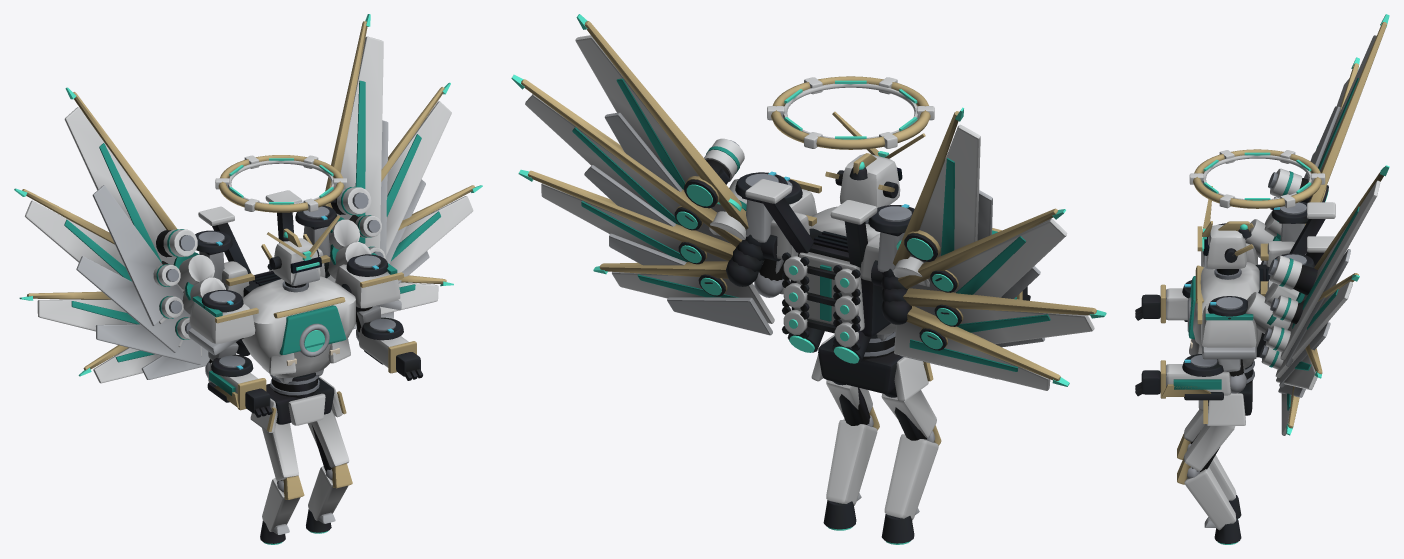
The model's file is ex_seraph_10.glb.
3 views of the same model, side by side, from view 1: azimuth 30°, elevation 25°; view 2: azimuth 150°, elevation 25°; view 3: azimuth 270°, elevation 25° (orthographic). The views are drawn at different scales.
Visible parts, largest first — view 1: body, flap_4, flap_0, flap_5, flap_1, flap_6, flap_2, fan_0, flap_7, flap_3; view 2: body, flap_0, flap_1, flap_4, flap_5, flap_2, flap_3, flap_6, flap_7, fan_0; view 3: body, flap_0, flap_4, fan_0, flap_1, flap_2, flap_3, flap_5.
Part boxes in pixels (box(x1,y1,x2,y2)): body: box(173, 190, 422, 544); flap_4: box(64, 87, 197, 325); flap_0: box(324, 14, 388, 259); flap_5: box(14, 188, 190, 352); flap_1: box(349, 82, 451, 263); flap_6: box(19, 291, 201, 364); flap_2: box(325, 185, 482, 283); fan_0: box(215, 155, 347, 212); flap_7: box(78, 317, 209, 383); flap_3: box(325, 273, 453, 329); body: box(709, 111, 1030, 544); flap_0: box(575, 14, 763, 246); flap_1: box(511, 74, 765, 260); flap_4: box(881, 107, 992, 277); flap_5: box(881, 208, 1067, 298); flap_2: box(518, 169, 763, 271); flap_3: box(593, 259, 774, 335); flap_6: box(881, 288, 1106, 347); flap_7: box(881, 301, 1069, 390); fan_0: box(767, 76, 934, 149); body: box(1135, 186, 1335, 544); flap_0: box(1268, 165, 1389, 366); flap_4: box(1268, 14, 1389, 253); fan_0: box(1189, 149, 1325, 208); flap_1: box(1270, 273, 1359, 387); flap_2: box(1263, 325, 1322, 397); flap_3: box(1259, 345, 1299, 435); flap_5: box(1270, 57, 1359, 209).
Size of the model in its own units: 14.94 by 13.23 by 6.95.
